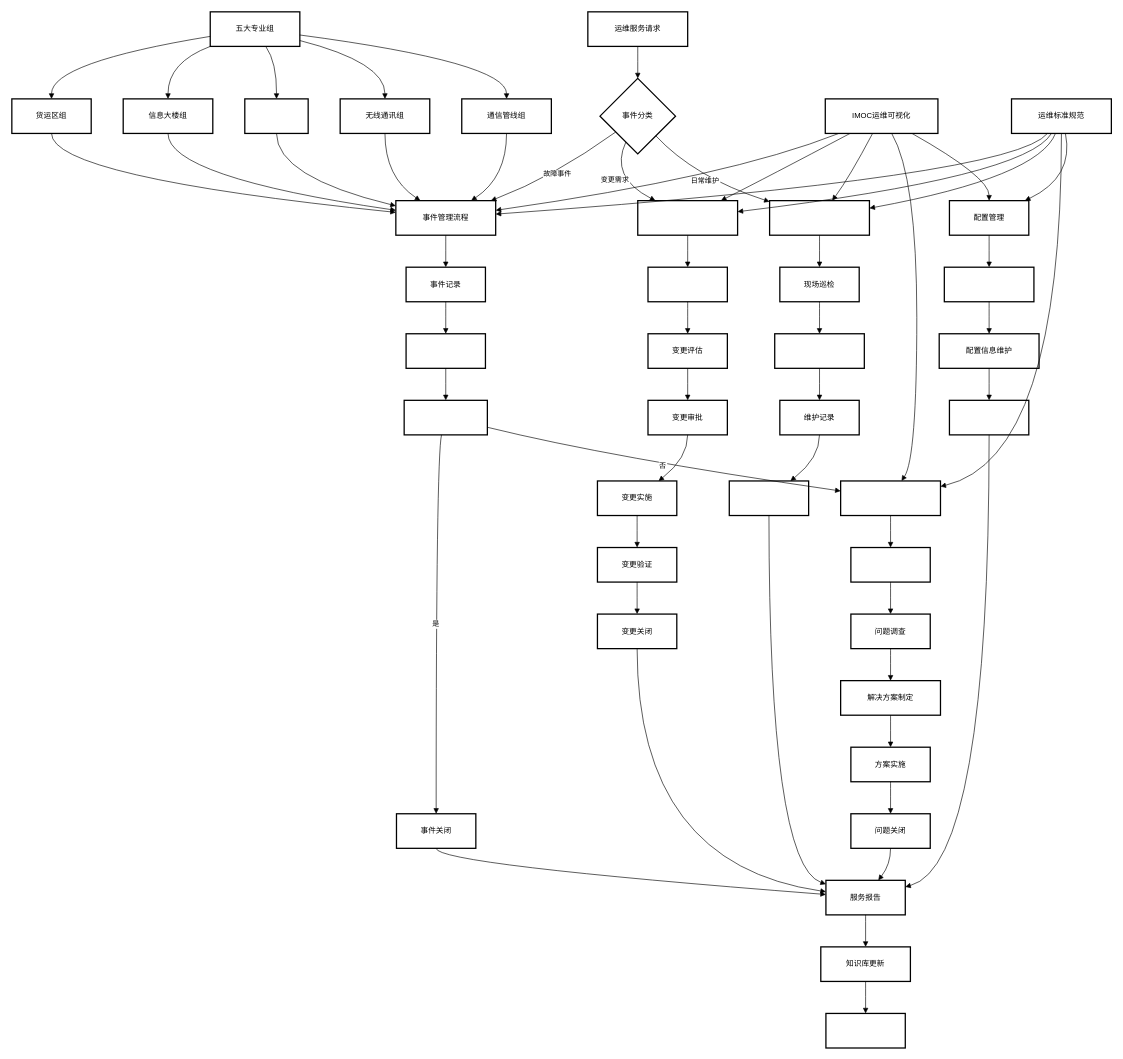
Some shapes in this 1123 by 1059 pixel diagram are drawn without their labels. The shapes that lost their labels are listed below. From the top down, each one's box as (x1, y1, x2, y2) in pixels, then its label:
(244, 98, 308, 134): ITC组
(637, 200, 738, 236): 变更管理流程
(769, 200, 870, 236): 现场管理流程
(647, 266, 728, 302): 变更申请
(943, 266, 1034, 302): 配置项识别
(405, 333, 486, 369): 事件分析
(774, 333, 865, 369): 预防性维护
(403, 399, 488, 435): 快速解决?
(948, 399, 1029, 435): 配置审计
(728, 480, 809, 516): 状态更新
(840, 480, 941, 516): 问题管理流程
(850, 547, 931, 582): 问题识别
(825, 1012, 906, 1048): 服务改进
